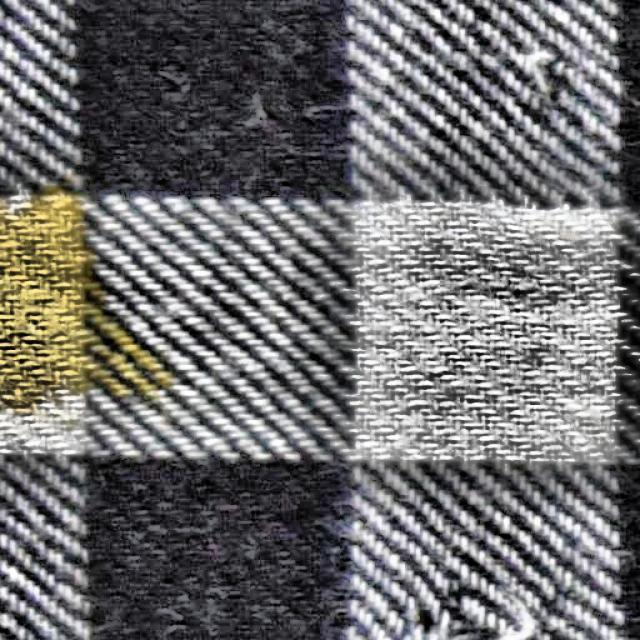selvet: (164, 63, 375, 175), (433, 12, 599, 123), (363, 575, 634, 640)
